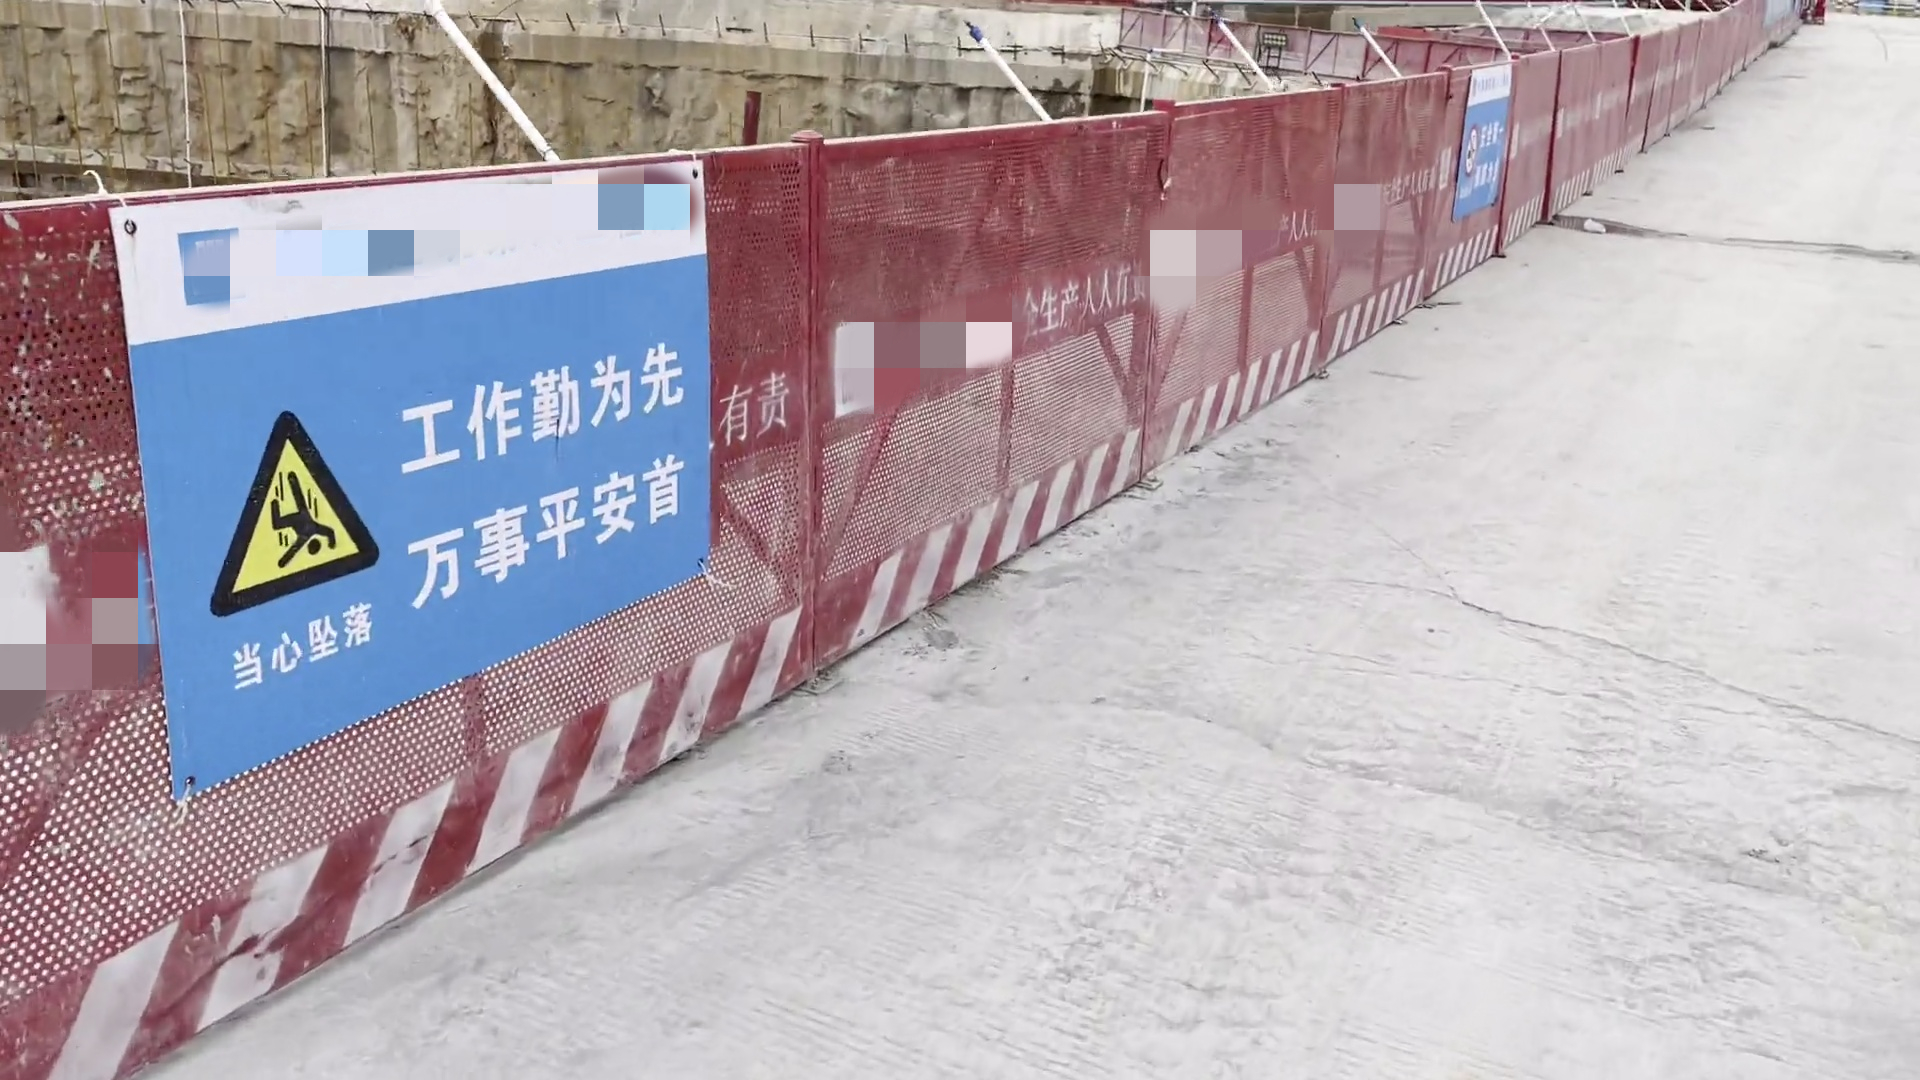fence: (1, 1, 1782, 1077)
slogan: (1017, 260, 1160, 343)
